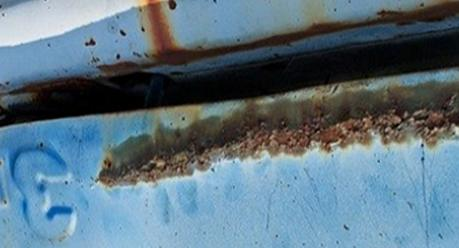rust: (100, 77, 459, 191), (291, 1, 449, 37), (128, 1, 197, 65)
